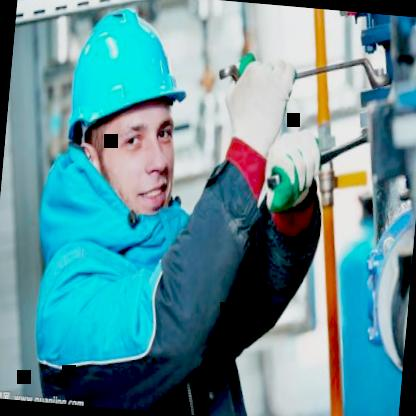helmet: (47, 0, 207, 227)
